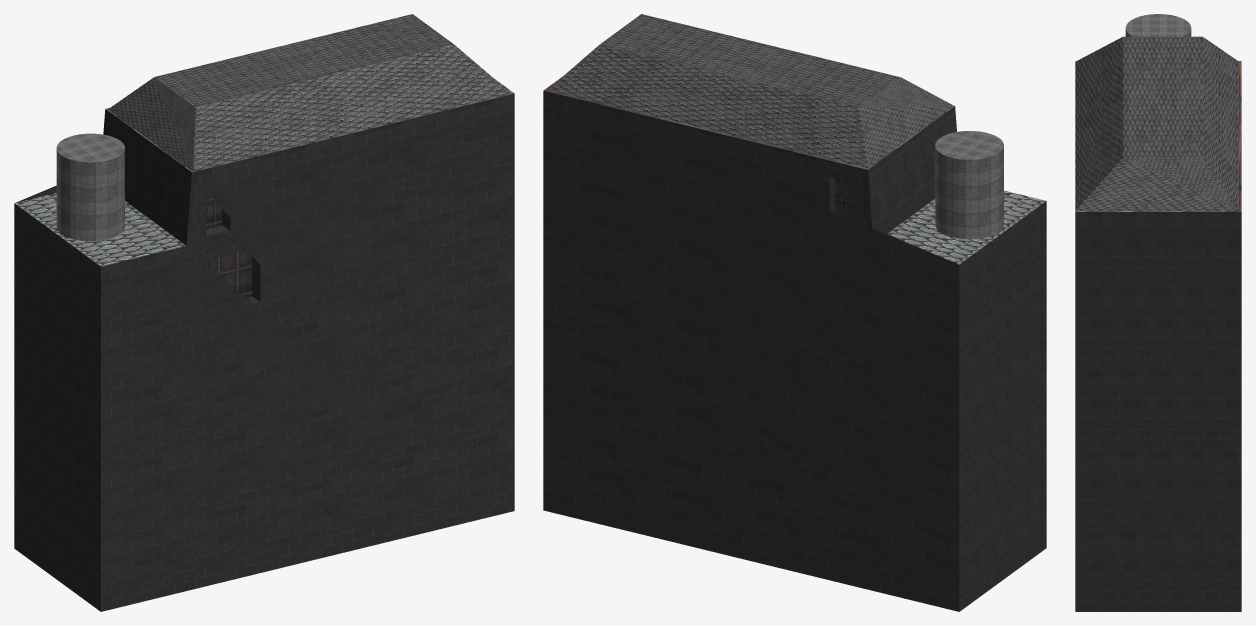
Rendered from factoryTextured.fbx.
3 views of the same model, side by side, from view 1: azimuth 30°, elevation 25°; view 2: azimuth 150°, elevation 25°; view 3: azimuth 270°, elevation 25° (orthographic). The views are drawn at different scales.
Visible parts, largest first — view 1: Cube; view 2: Cube; view 3: Cube.
Part boxes in pixels (x1=…): Cube: x1=14, y1=14, x2=514, y2=611; Cube: x1=543, y1=14, x2=1046, y2=611; Cube: x1=1075, y1=14, x2=1241, y2=611.
Bounding box in the file's own units: 555 × 586 × 202.
